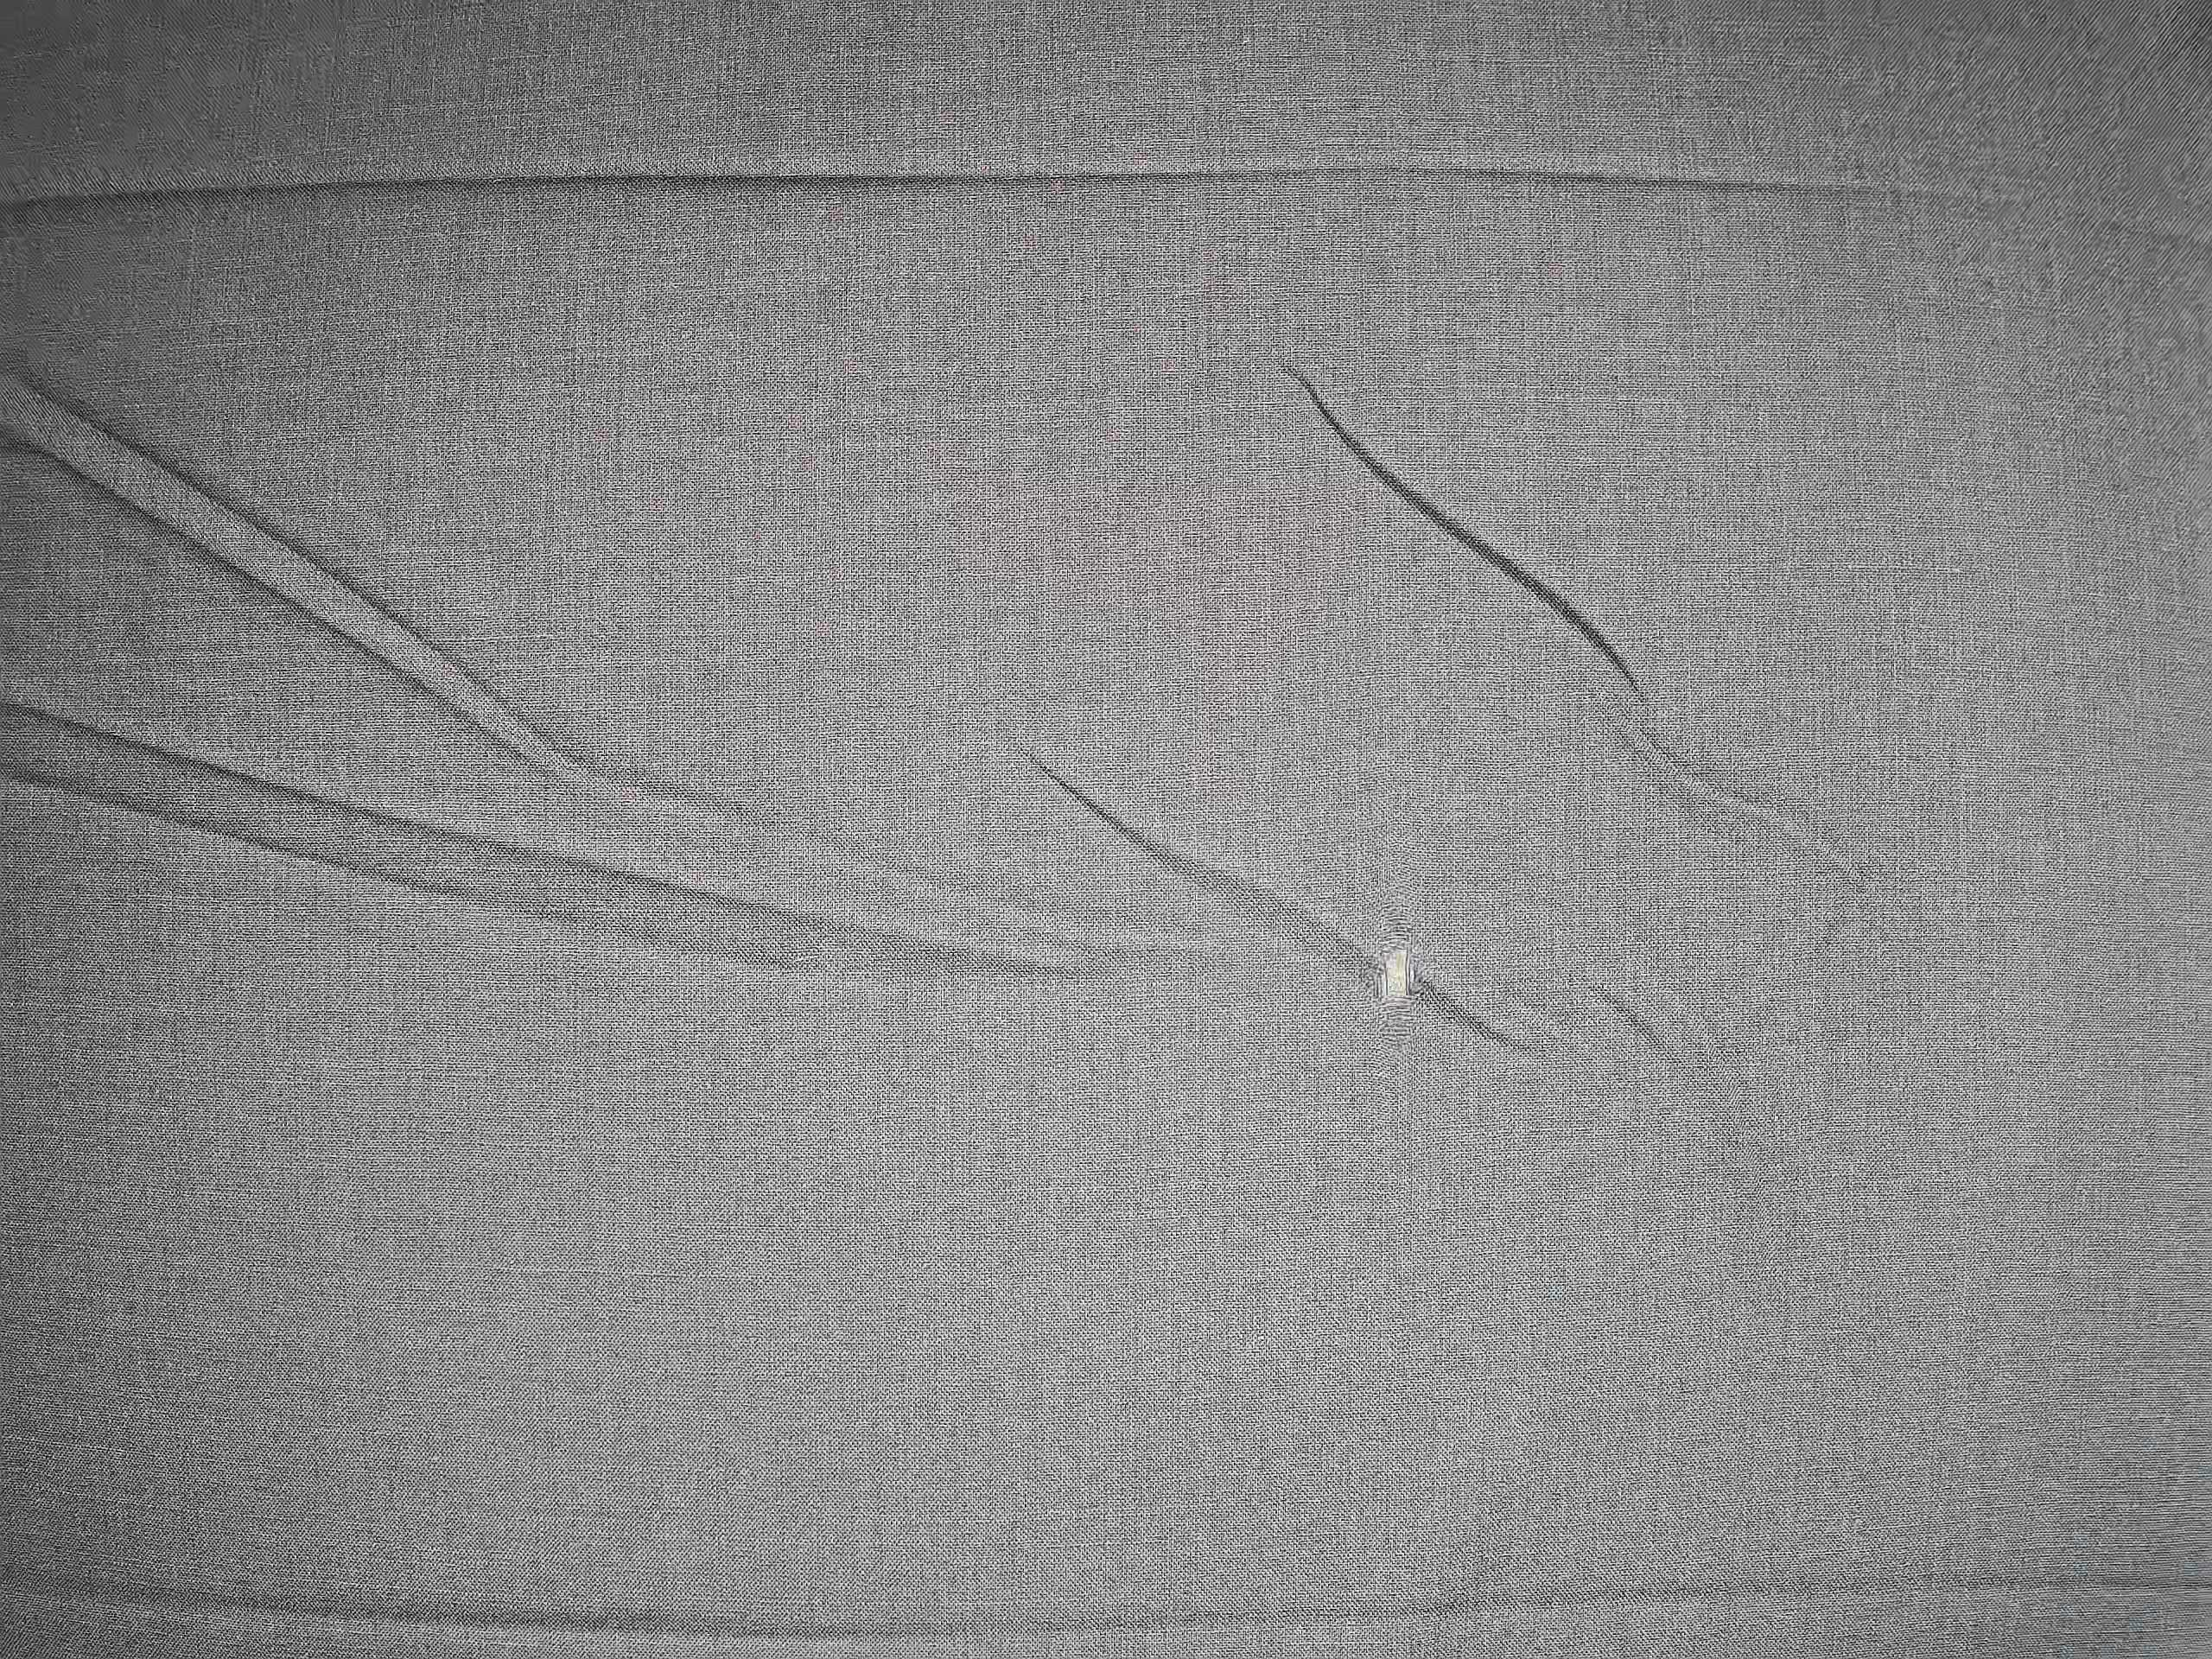brushed-hole: (1352, 918, 1449, 1032)
